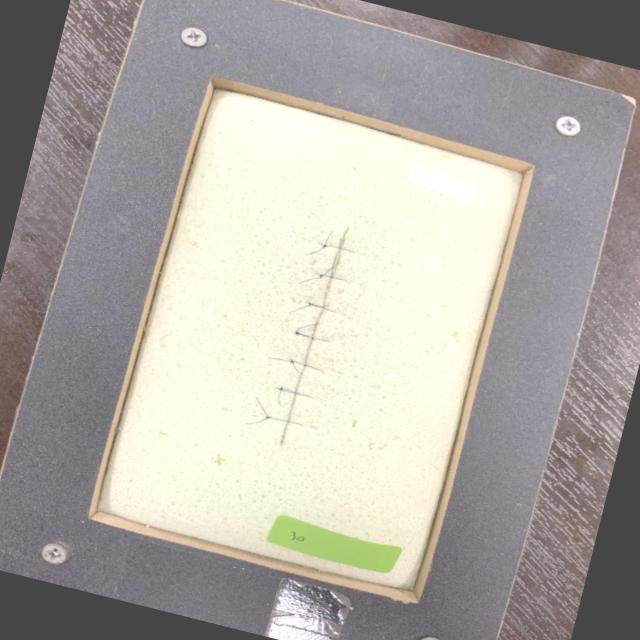knot: (274, 385, 285, 392), (320, 242, 329, 250), (317, 272, 326, 280), (292, 329, 302, 336), (306, 301, 316, 308), (263, 414, 272, 421), (288, 358, 296, 365)
leftover: (295, 322, 321, 333), (321, 261, 340, 276), (287, 303, 312, 314), (255, 396, 268, 417), (304, 245, 325, 255), (297, 276, 321, 284), (291, 360, 303, 375), (323, 231, 333, 246), (245, 417, 266, 424), (297, 333, 315, 341), (279, 386, 299, 393), (267, 357, 293, 362), (277, 388, 282, 406), (309, 303, 329, 307)
stitch: (290, 360, 325, 374), (278, 387, 314, 399), (294, 331, 329, 341), (264, 416, 301, 425), (308, 302, 336, 313), (321, 244, 354, 253), (318, 274, 344, 280)
wound: (279, 225, 349, 445)
